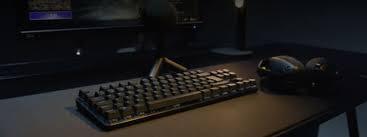keyboard: (75, 67, 257, 130)
